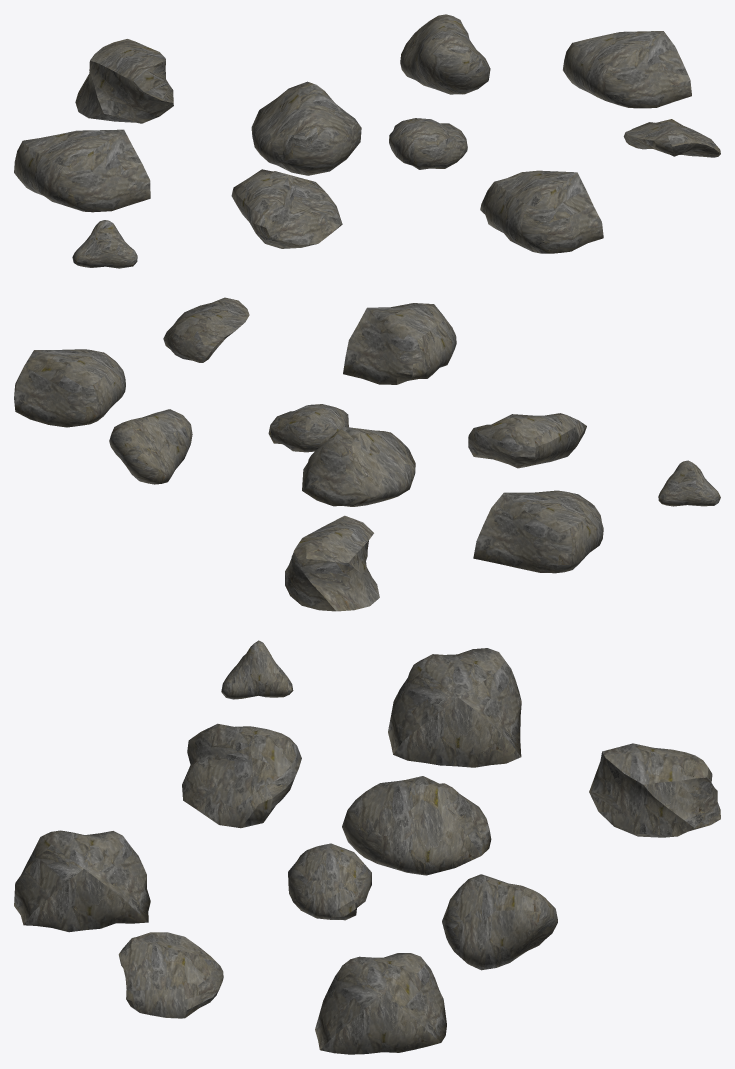
File: mesh_rock_cluster.obj
The picture shows the model from 3 angles, top to bottom: view 1: azimuth 30°, elevation 25°; view 2: azimuth 150°, elevation 25°; view 3: azimuth 270°, elevation 25°; orthographic projection. The views are drawn at different scales.
Visible parts, largest first — view 1: mesh_rock_cluster; view 2: mesh_rock_cluster; view 3: mesh_rock_cluster.
Part boxes in pixels (<box>): mesh_rock_cluster: <box>14,14,720,268</box>; mesh_rock_cluster: <box>14,297,720,611</box>; mesh_rock_cluster: <box>14,640,720,1054</box>.
Size of the model in its own units: 6.4 by 0.7868 by 5.07.
